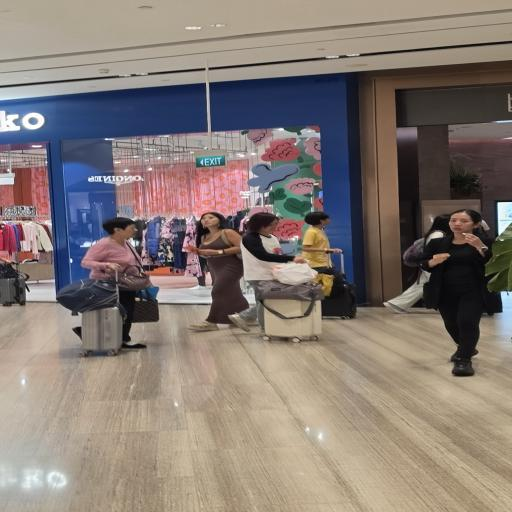person_left: (186, 214, 250, 324)
person_with_luggage_right: (62, 207, 177, 352), (237, 212, 323, 342), (300, 216, 356, 316)
